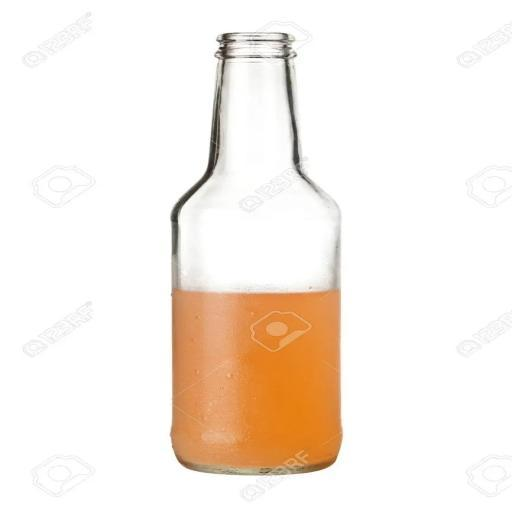bottle: (154, 25, 359, 480)
